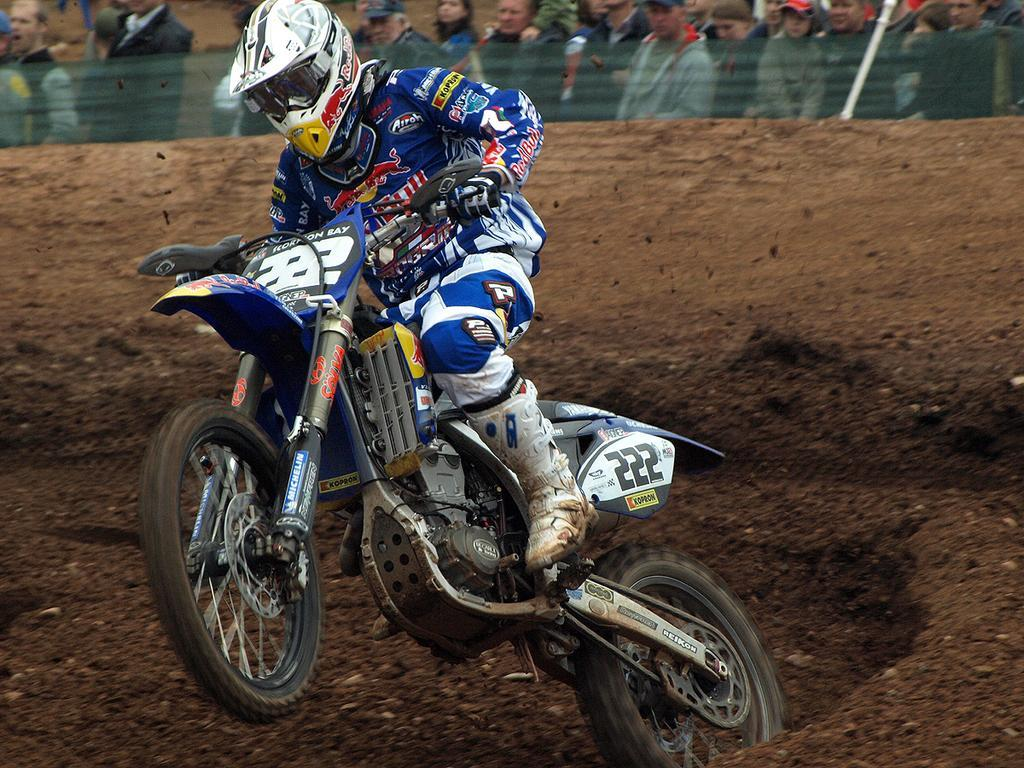helmet: (228, 0, 363, 166)
